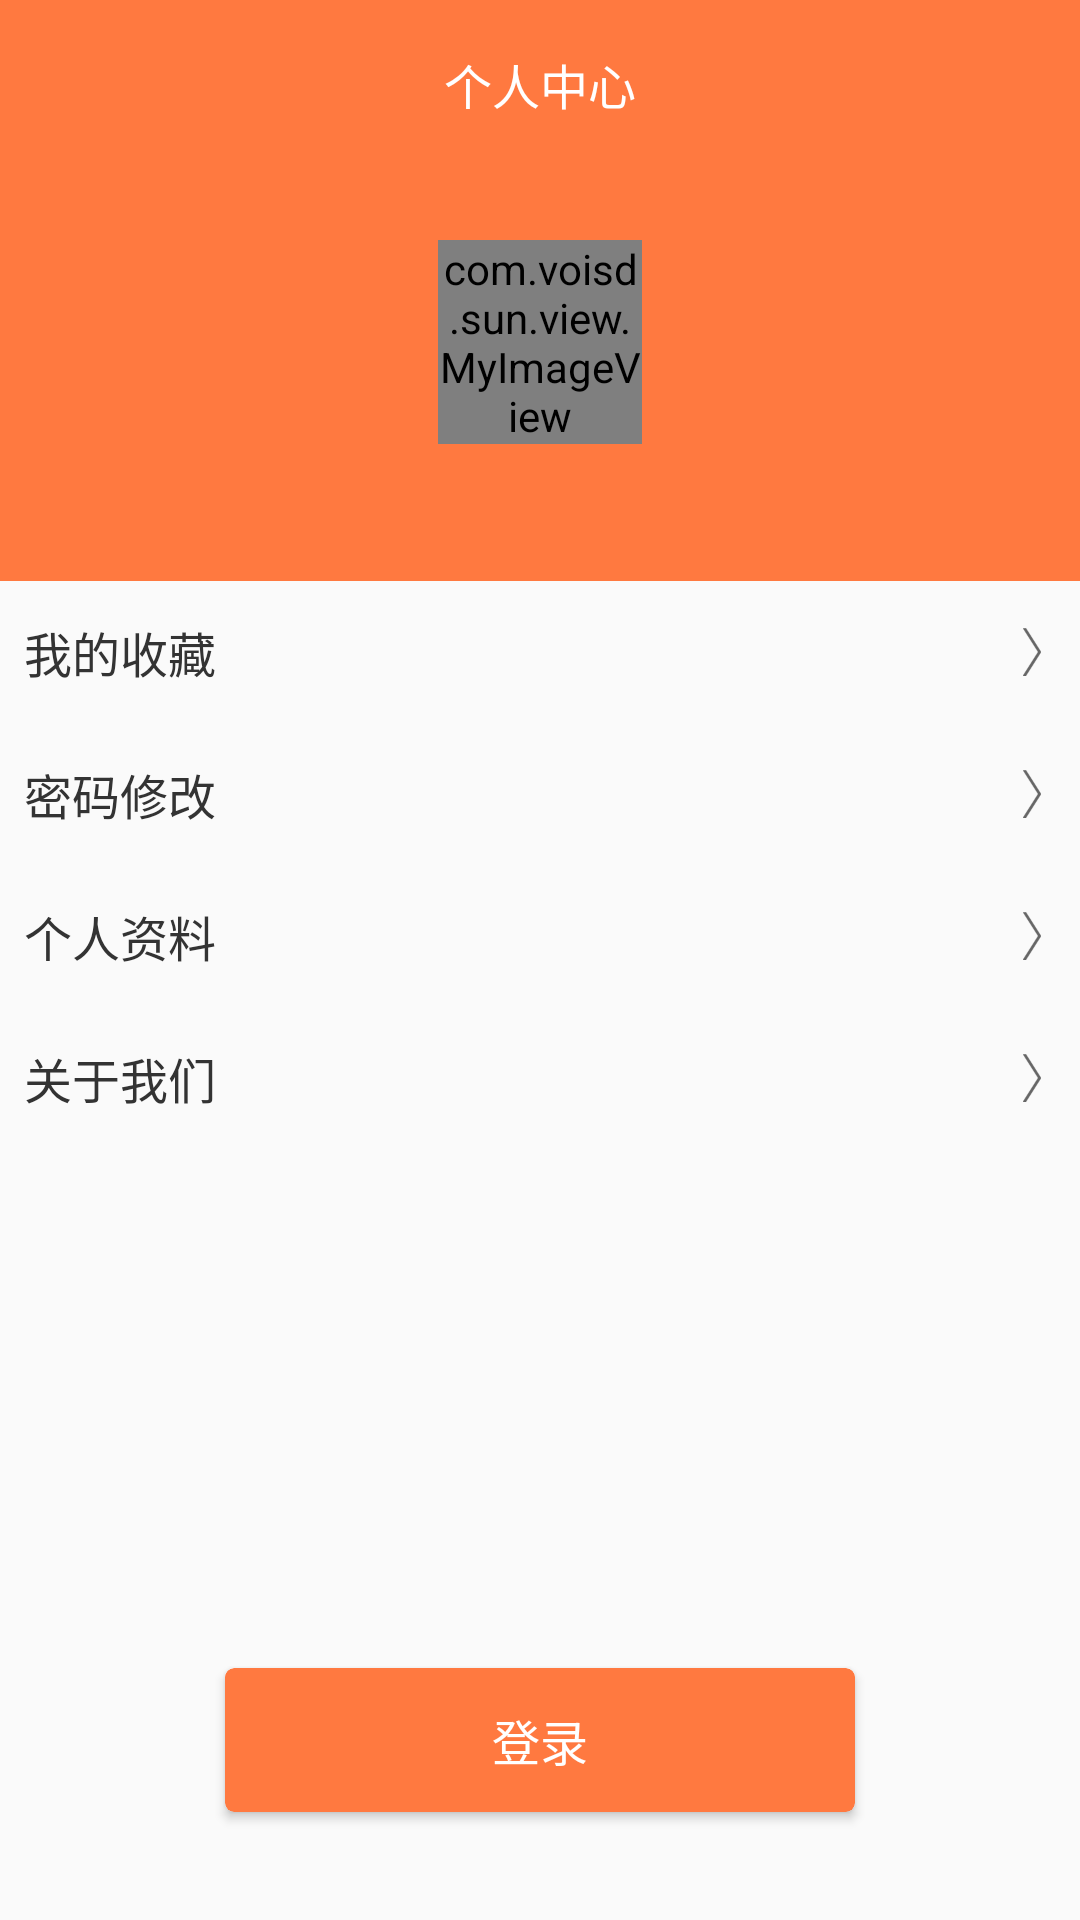

Icon click points for this 1080 × 1920 phone screenshot, format [x,y]:
arrow right: [1032,652], [1032,794], [1032,936], [1032,1078]
